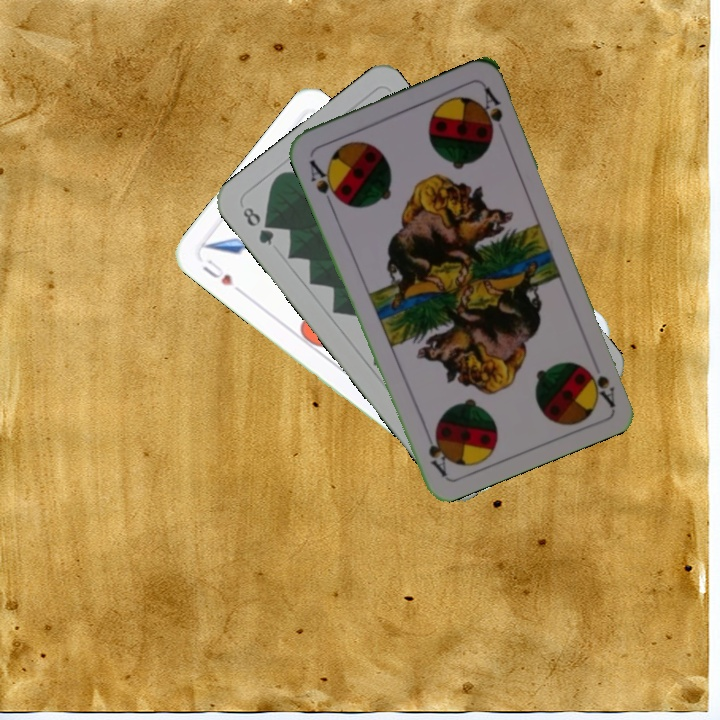G8: (238, 203, 277, 248)
HU: (198, 255, 236, 289)
SA: (305, 155, 344, 209), (582, 363, 618, 409)
